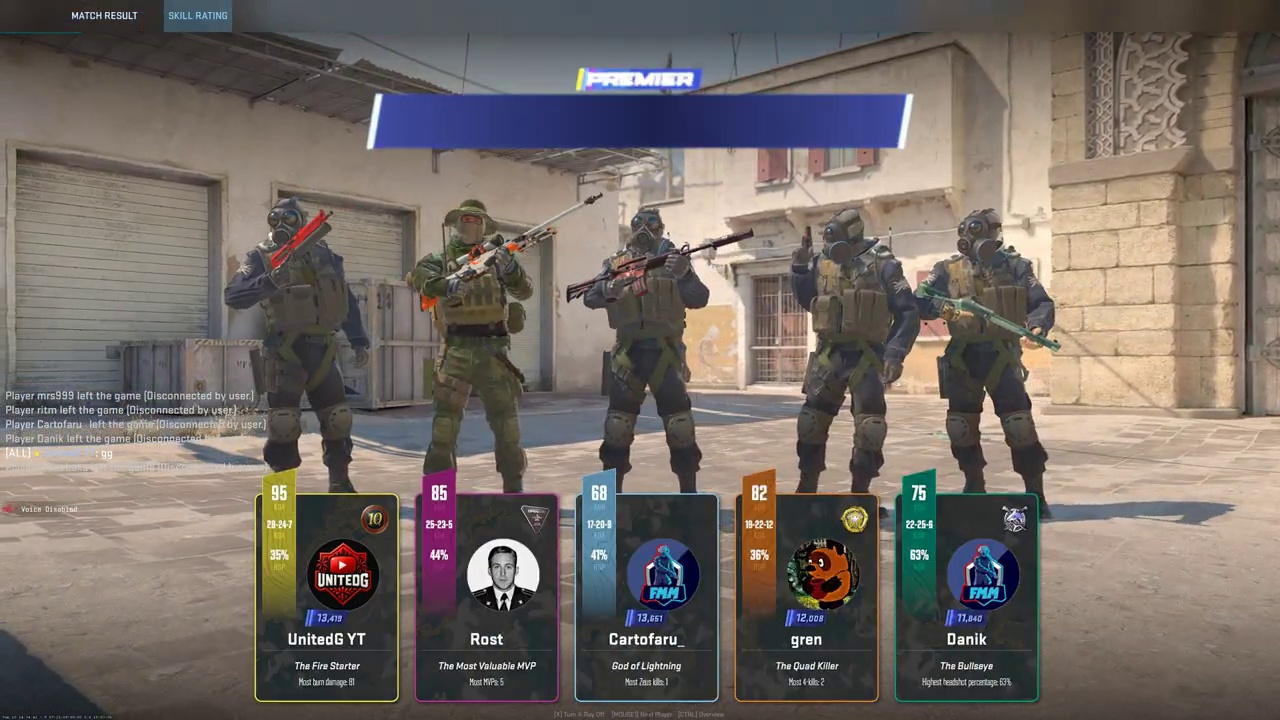CT: (251, 199, 368, 518), (932, 207, 1043, 519), (788, 209, 900, 514), (592, 203, 703, 490), (429, 202, 528, 492)
